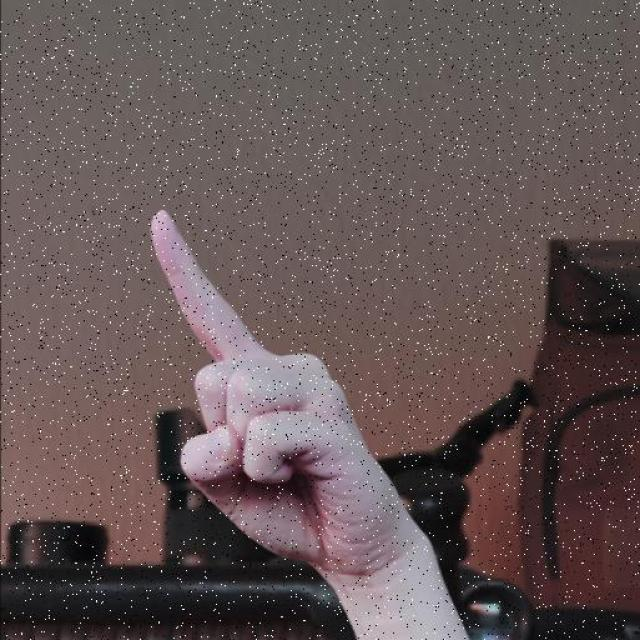Z: (144, 204, 422, 580)
